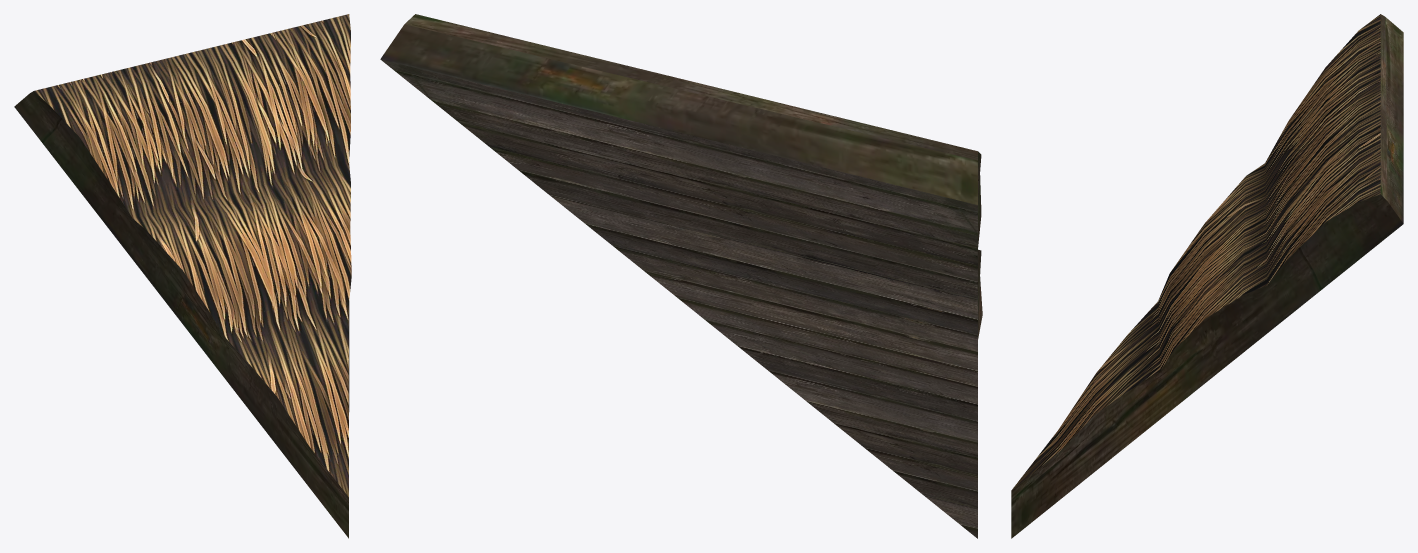
The picture shows the model from 3 angles, left to right: view 1: azimuth 30°, elevation 25°; view 2: azimuth 150°, elevation 25°; view 3: azimuth 270°, elevation 25°; orthographic projection. The views are drawn at different scales.
Visible parts, largest first — view 1: SM_BB_T1_Extended_Roof_Triangle_Large_LOD0; view 2: SM_BB_T1_Extended_Roof_Triangle_Large_LOD0; view 3: SM_BB_T1_Extended_Roof_Triangle_Large_LOD0.
Part boxes in pixels (x1=…): SM_BB_T1_Extended_Roof_Triangle_Large_LOD0: x1=14, y1=14, x2=351, y2=538; SM_BB_T1_Extended_Roof_Triangle_Large_LOD0: x1=380, y1=14, x2=982, y2=538; SM_BB_T1_Extended_Roof_Triangle_Large_LOD0: x1=1011, y1=14, x2=1403, y2=538.
Bounding box in the file's own units: 3.19 × 3.37 × 2.76.
3 materials, 3 textured.
